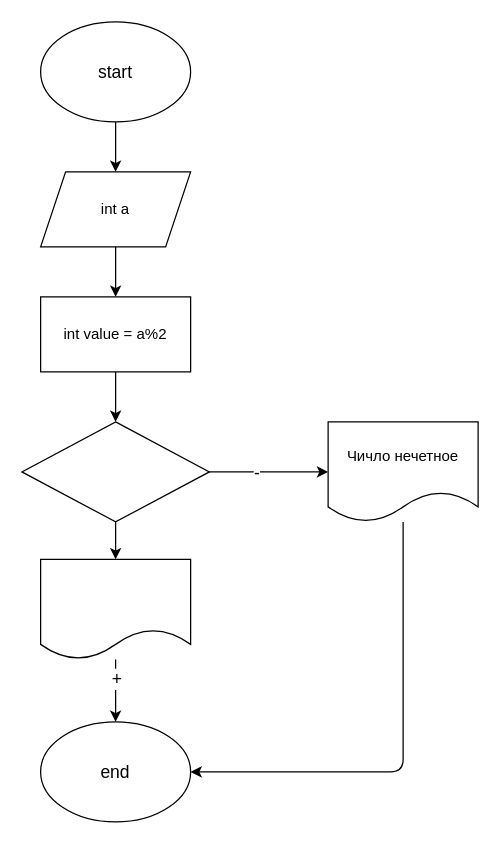
Image size: 500x844. Some labels were removed from this diagram. Each missing label, with the box of its shape:
value==0: (21, 421, 209, 522)
Число четное: (39, 558, 191, 659)
